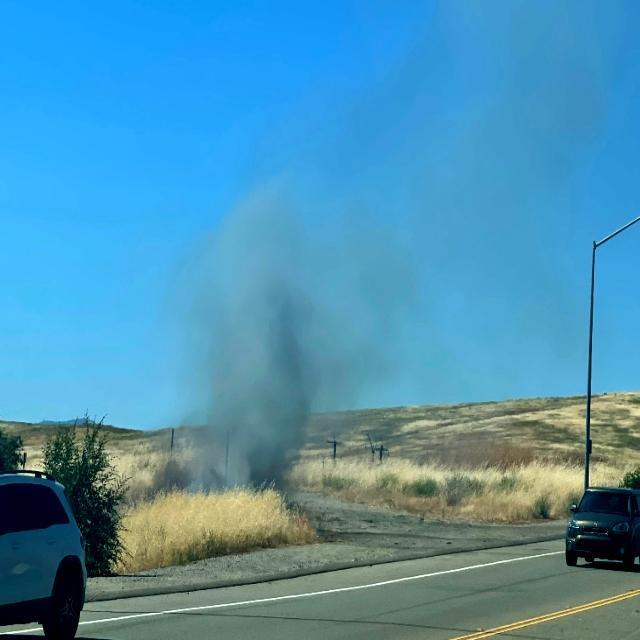Smoke: (157, 173, 380, 490)
